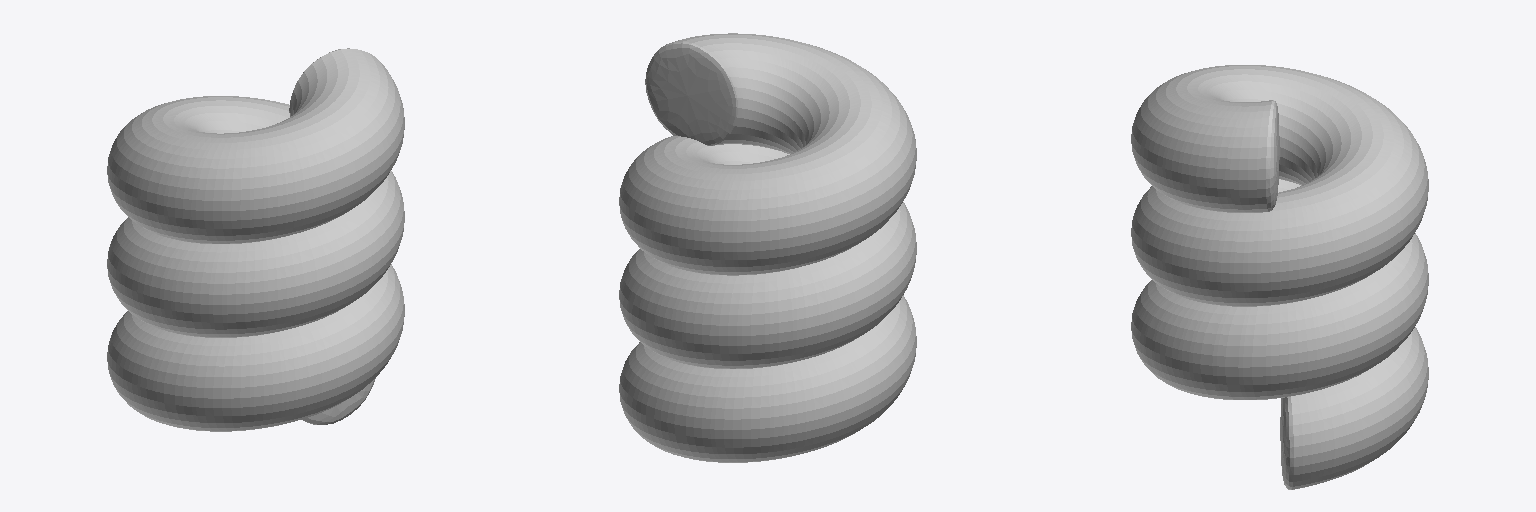
File: helix_45.0.obj
The picture shows the model from 3 angles: view 1: azimuth 30°, elevation 25°; view 2: azimuth 150°, elevation 25°; view 3: azimuth 270°, elevation 25°; orthographic projection.
Parts seen in each view (by area): view 1: helix:pHelix1; view 2: helix:pHelix1; view 3: helix:pHelix1.
Boxes of the visible parts, box(x1,y1,x2,y2) form: helix:pHelix1: box(107, 48, 404, 431); helix:pHelix1: box(619, 33, 916, 462); helix:pHelix1: box(1131, 65, 1428, 489).
Bounding box in the file's own units: 1.92 × 2.71 × 1.92.